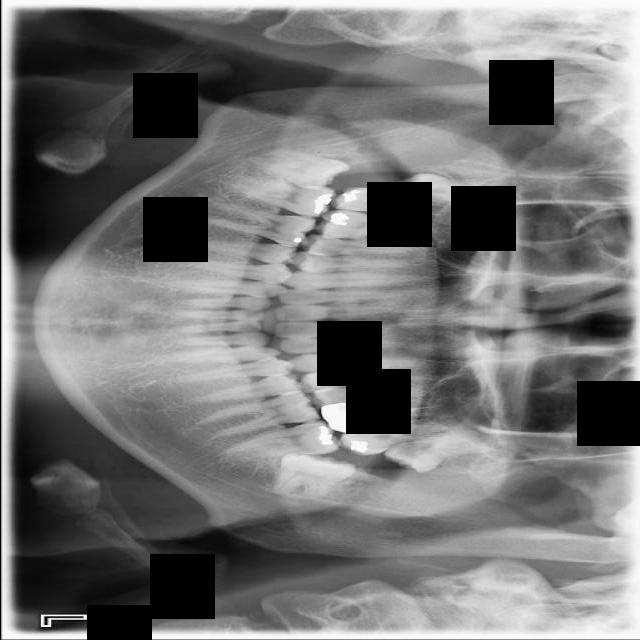3M ESPE Implant: (388, 169, 491, 206)
52: (287, 409, 343, 466), (266, 202, 322, 256), (287, 177, 339, 223), (334, 426, 393, 459), (330, 184, 388, 213), (318, 398, 361, 437), (316, 209, 371, 239)
73: (355, 398, 446, 429), (58, 590, 72, 598)
BioHorizons Implant: (335, 417, 459, 460)
BioLife Implant: (379, 423, 494, 482)
Biomet 3i Implant: (271, 447, 356, 506)
Blue Sky Bio Implant: (221, 418, 341, 461)
Caries: (329, 184, 453, 221)
Implant: (229, 176, 338, 220)
Keystone Dental Implant: (242, 141, 351, 197)
